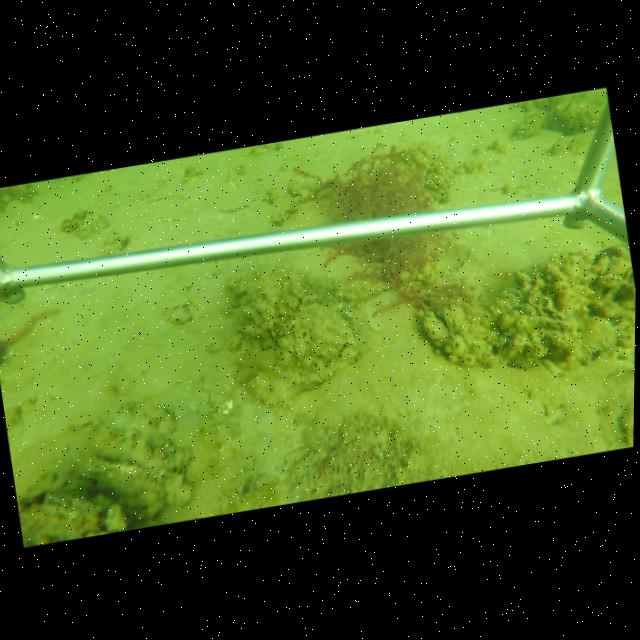Oyster-Indeterminate: (278, 304, 360, 382)
